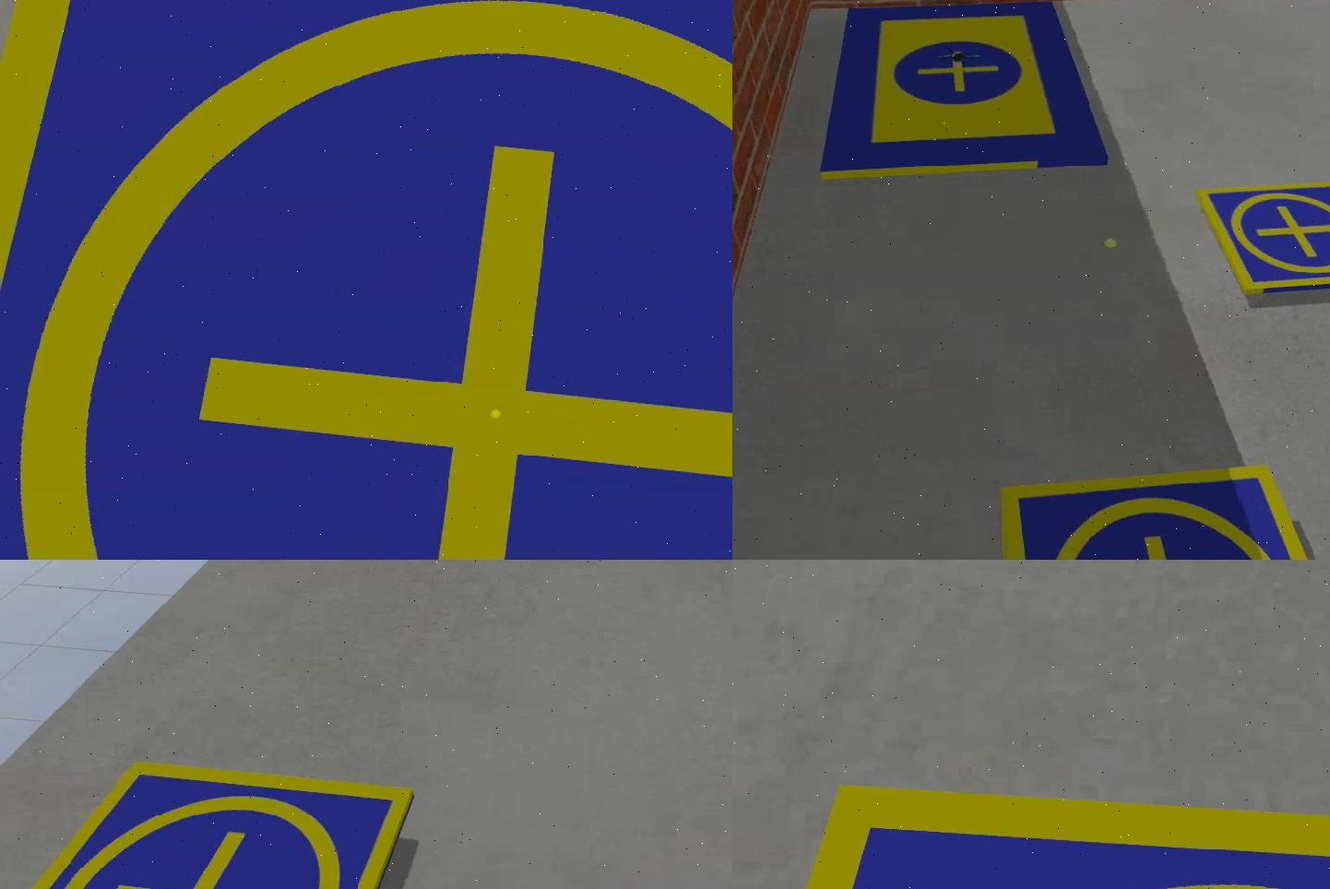large_base: (816, 1, 1110, 189)
small_base: (0, 1, 731, 561), (731, 780, 1328, 889), (0, 765, 411, 889), (995, 468, 1328, 561), (1195, 172, 1328, 302)
